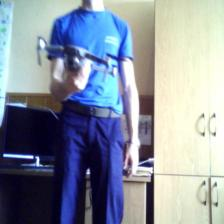drone: (29, 32, 131, 88)
